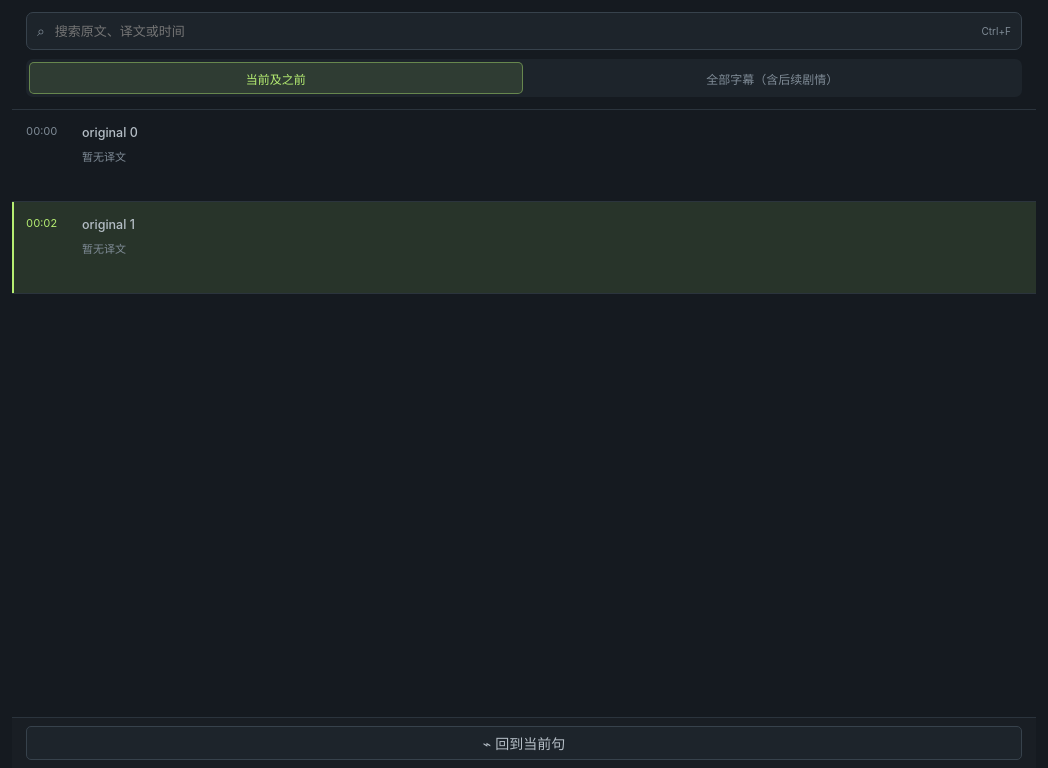
Test: SubtitleTranscriptPanel › debounces visible text search without exposing internal identifiers
Expected: the text "暂无译文" is shown 2 times, x1=82 y1=150 x2=126 y2=164; x1=82 y1=242 x2=126 y2=256
Click the button "全部字幕（含后续剧情）".
click(772, 78)  # box x1=526 y1=62 x2=1019 y2=94
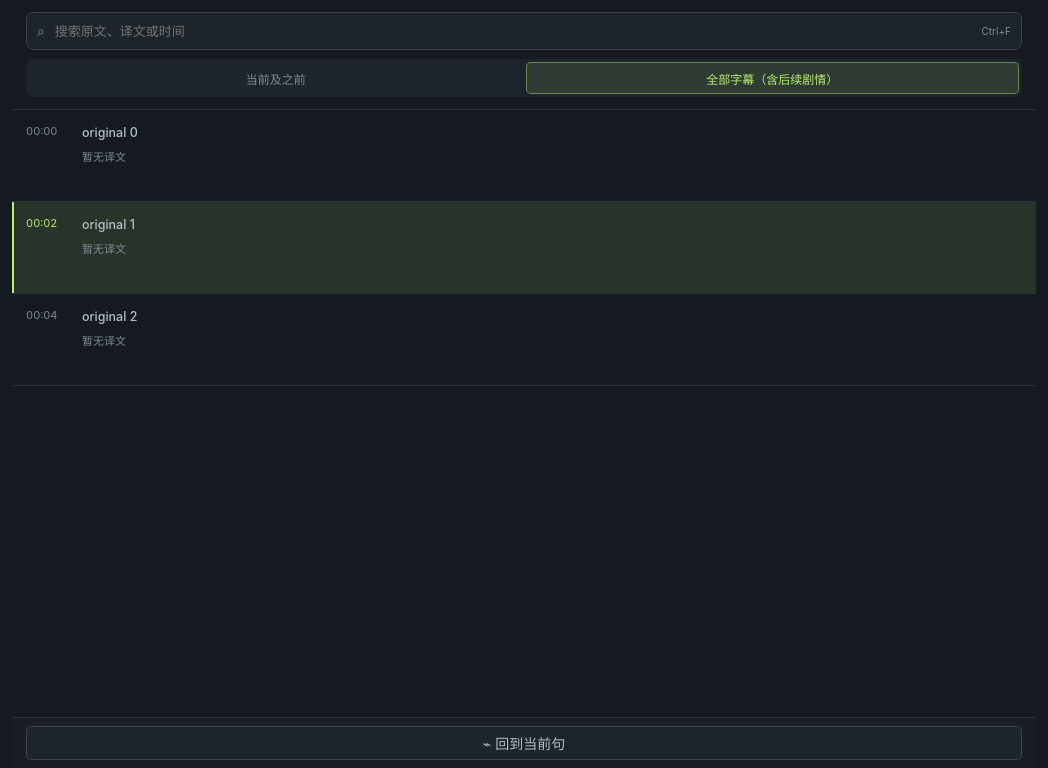
Type "original 2" into the search field named "搜索逐字稿".
click(513, 31); type("original 2")  # box x1=53 y1=14 x2=974 y2=48
Wait 200 ms
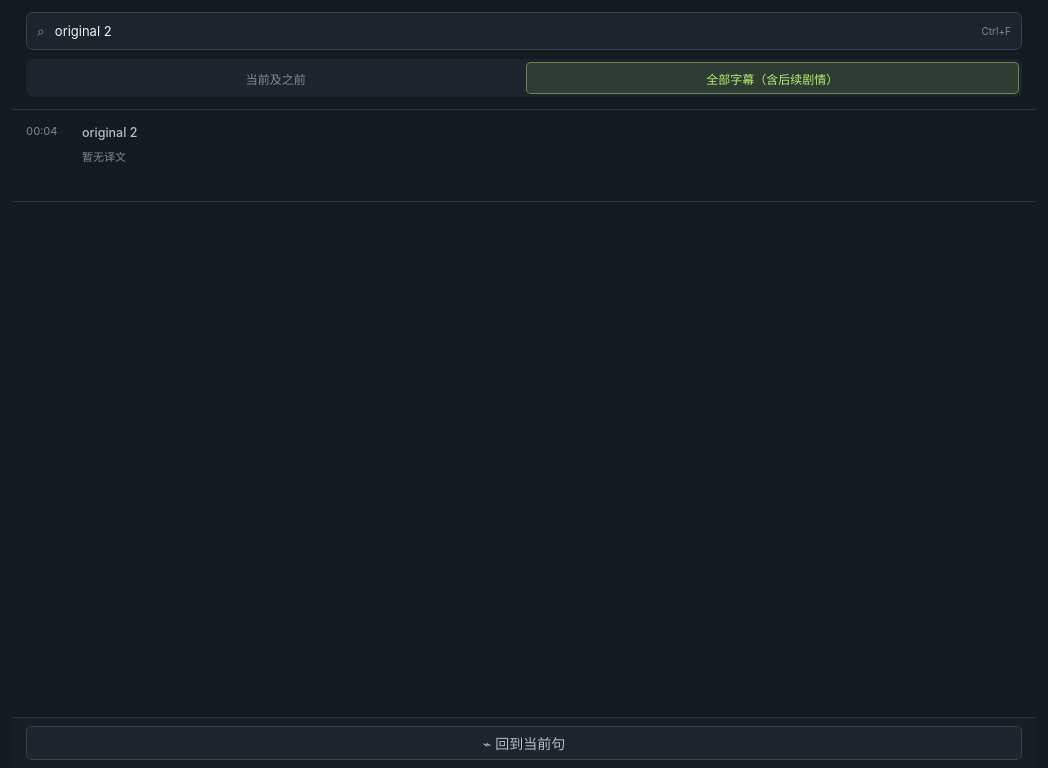
Expected: the number of buttons "00:04 original 2 暂无译文" is 1, x1=12 y1=110 x2=1036 y2=202
Replace the text in the search field named "搜索逐字稿" with "original-2" at point(513, 31), box x1=53 y1=14 x2=974 y2=48
Wait 200 ms
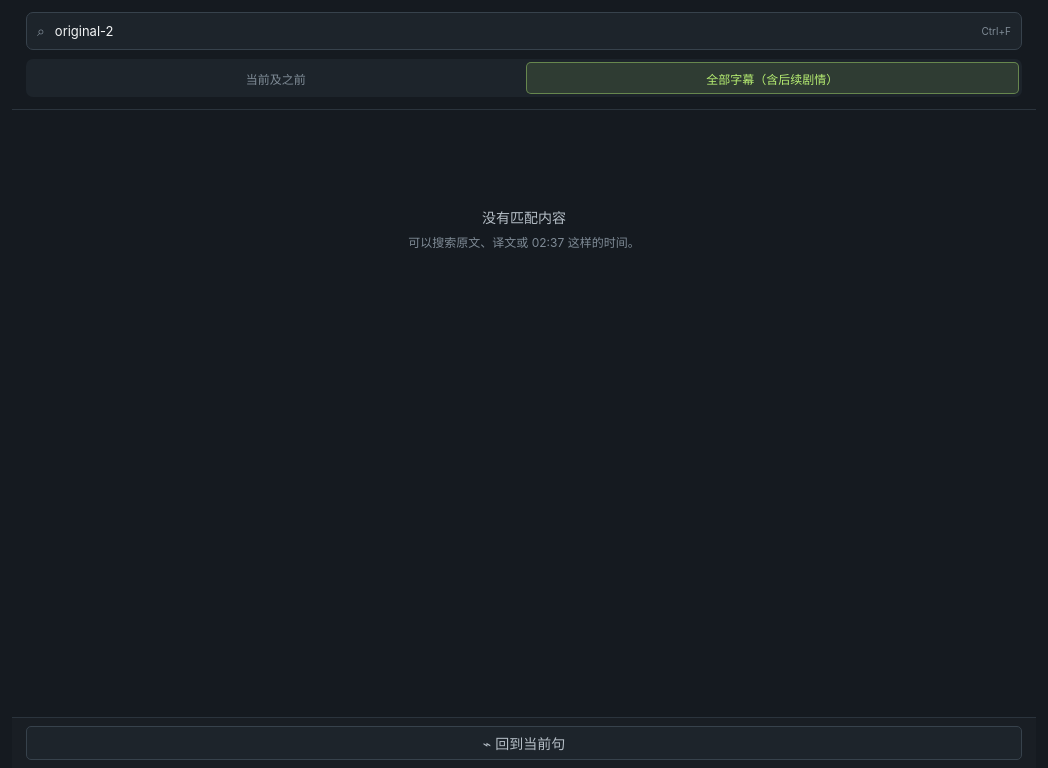
Expected: the text "没有匹配内容" is shown, x1=482 y1=209 x2=566 y2=226
